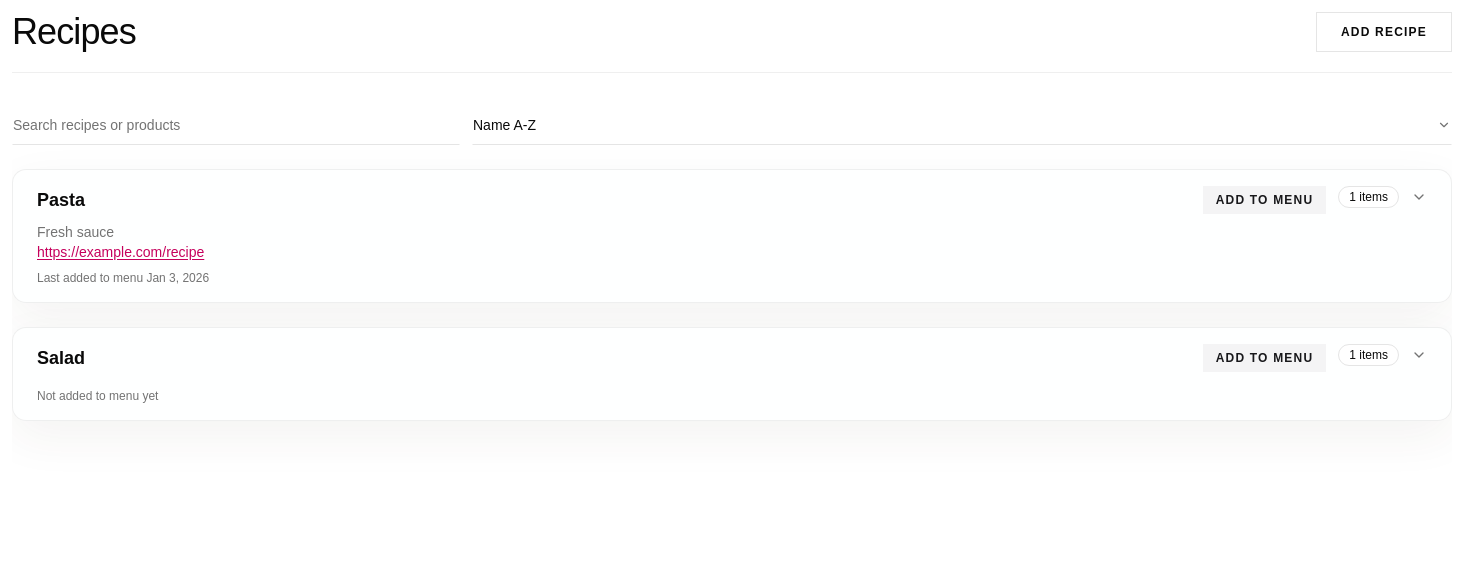
Test case: RecipesPage › toggles recipe cards from the summary area and expands notes in place
Check: the text "Pasta" is shown, box [37,190,85,210]
Check: the number of buttons "Add to menu" is 2, box [1203,186,1326,214]; [1203,344,1326,372]
Click the button "Pasta". click: (732, 236)
box: [13,170,1451,302]
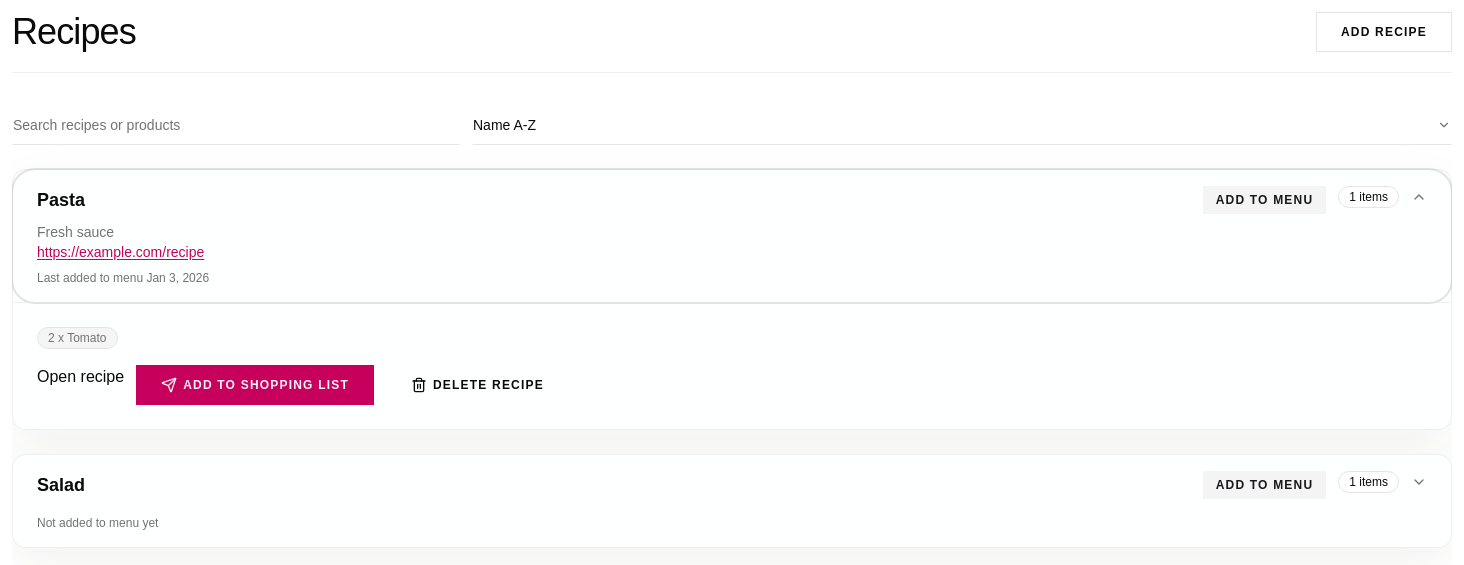
Check: the button "Add to shopping list" is shown, box [136,365,374,405]
Check: the number of buttons "Add to menu" is 2, box [1203,186,1326,214]; [1203,471,1326,499]
Click the button "Pasta". click: (732, 236)
box: [13,170,1451,302]
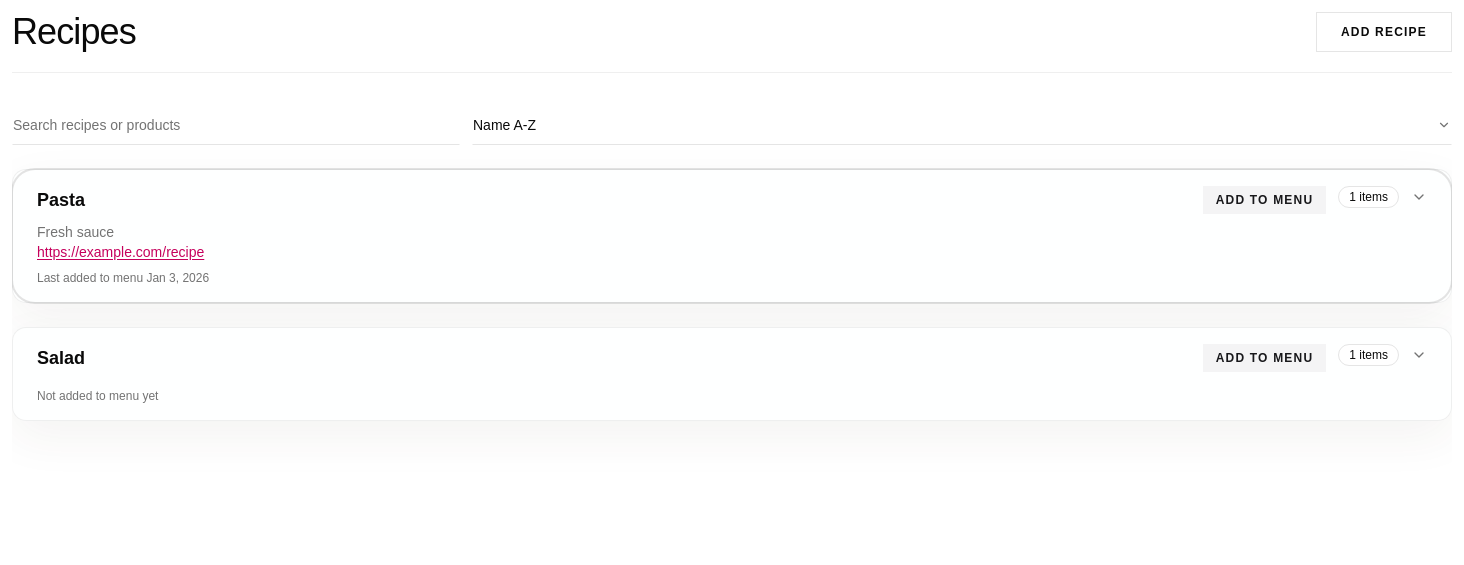
Check: the button "Add to shopping list" is gone
